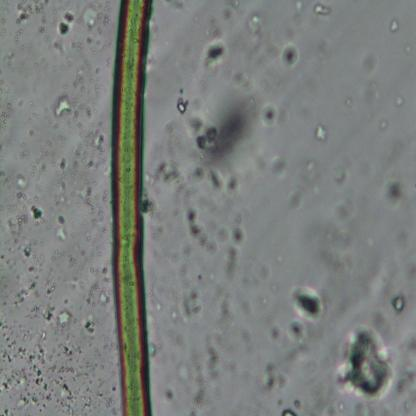Background material: (0, 332, 83, 416), (338, 320, 395, 404), (192, 97, 253, 166), (187, 330, 225, 413), (309, 198, 341, 270), (153, 155, 203, 200), (394, 325, 416, 416), (183, 207, 223, 255), (287, 286, 328, 323), (224, 225, 249, 282), (250, 355, 290, 390), (175, 282, 205, 328), (378, 167, 408, 207), (203, 6, 235, 43), (206, 283, 233, 326), (160, 119, 187, 161), (83, 0, 111, 34), (14, 0, 52, 23), (209, 170, 242, 194), (13, 277, 38, 308), (6, 212, 28, 247), (278, 34, 299, 70), (288, 314, 308, 349), (201, 40, 227, 66), (142, 185, 160, 221), (53, 89, 75, 118), (265, 149, 287, 176), (312, 113, 331, 144), (54, 309, 74, 337), (228, 68, 252, 91), (307, 0, 334, 19), (360, 48, 378, 76), (87, 124, 106, 150), (262, 101, 280, 128), (275, 400, 304, 416), (304, 158, 319, 188), (56, 14, 75, 37), (14, 170, 33, 192), (82, 185, 96, 213), (333, 163, 350, 185), (71, 142, 88, 163), (162, 382, 178, 404), (0, 317, 17, 337), (391, 294, 408, 314), (290, 0, 305, 22), (289, 191, 306, 210), (87, 281, 99, 307), (72, 69, 85, 93), (174, 96, 190, 115), (248, 14, 263, 34), (0, 102, 14, 123), (29, 204, 43, 224), (86, 316, 99, 337), (272, 321, 284, 343), (50, 192, 66, 208), (102, 332, 114, 353), (97, 287, 108, 309), (392, 93, 407, 109), (42, 283, 55, 299), (13, 26, 24, 44), (44, 305, 54, 324), (66, 252, 76, 269), (5, 61, 18, 74), (56, 227, 68, 241), (102, 186, 111, 204), (70, 163, 80, 179), (56, 132, 66, 148), (30, 305, 41, 319), (391, 17, 401, 32), (22, 243, 32, 258), (71, 41, 85, 51), (57, 178, 67, 192), (15, 193, 29, 203), (103, 266, 111, 283), (59, 158, 68, 173), (37, 329, 48, 341), (85, 386, 93, 402), (55, 40, 64, 54), (85, 106, 94, 120), (2, 177, 13, 188), (99, 226, 108, 239), (17, 150, 31, 158), (47, 268, 55, 282), (34, 254, 44, 265), (0, 6, 6, 24), (80, 402, 90, 412), (90, 269, 100, 278), (36, 27, 46, 36), (32, 113, 42, 121), (62, 296, 69, 307), (57, 214, 64, 225), (8, 49, 15, 60), (27, 130, 36, 138), (83, 57, 90, 67), (38, 236, 44, 247), (87, 35, 93, 46), (0, 408, 8, 416), (0, 78, 4, 94), (0, 25, 7, 34), (28, 267, 38, 273), (88, 158, 94, 168), (29, 100, 35, 110), (96, 84, 100, 98), (16, 100, 24, 107), (94, 68, 100, 76), (46, 224, 52, 232), (0, 169, 6, 177), (96, 244, 100, 256), (39, 57, 46, 63), (0, 139, 3, 153), (51, 255, 57, 262), (36, 186, 42, 193), (72, 276, 78, 283), (108, 58, 112, 68), (4, 300, 9, 308), (38, 155, 46, 160), (74, 112, 79, 120), (79, 280, 84, 288), (111, 386, 117, 392), (98, 392, 104, 398), (9, 94, 15, 100), (0, 253, 5, 260), (42, 166, 47, 172), (31, 239, 36, 245), (48, 143, 53, 149), (33, 62, 38, 67), (27, 119, 32, 124), (36, 159, 40, 165), (82, 250, 86, 256), (0, 204, 4, 210), (30, 172, 34, 177), (21, 45, 24, 50)
Microfibre: (109, 0, 159, 416)
